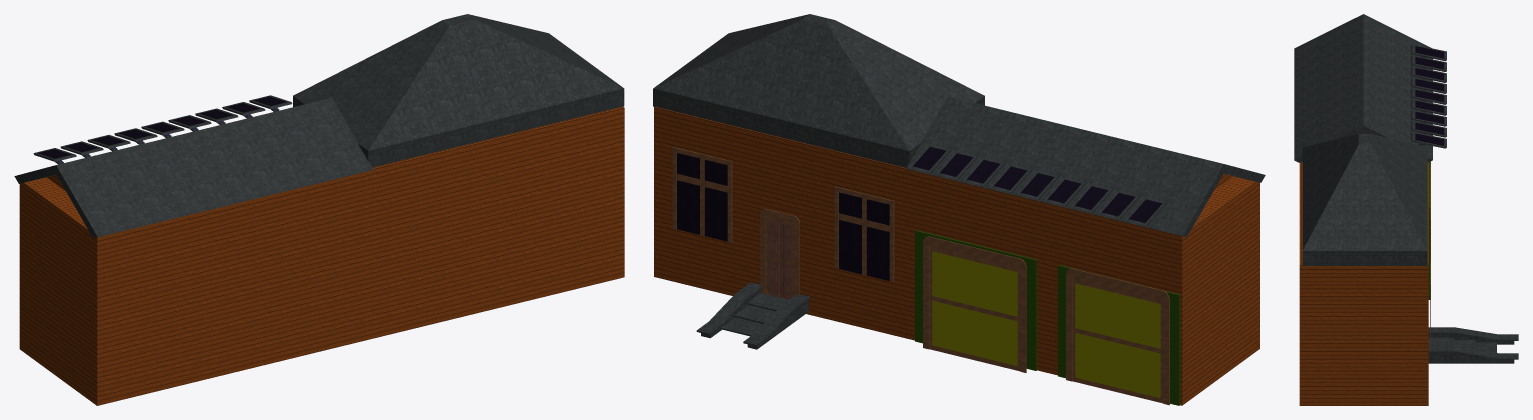
Rendered from Medium_Expensive_house_3.glb.
3 renders of one model, left to right at view 1: azimuth 30°, elevation 25°; view 2: azimuth 150°, elevation 25°; view 3: azimuth 270°, elevation 25°, orthographic. The views are drawn at different scales.
Parts seen in each view (by area): view 1: mergedBlocks(Clone); view 2: mergedBlocks(Clone); view 3: mergedBlocks(Clone).
Part boxes in pixels (box(x1,y1,x2,y2)): mergedBlocks(Clone): box(14, 14, 624, 405); mergedBlocks(Clone): box(653, 14, 1265, 405); mergedBlocks(Clone): box(1294, 14, 1518, 405).
Size of the model in its own units: 19.72 by 9.34 by 8.69.
Materials: 8 (5 with a texture image).
